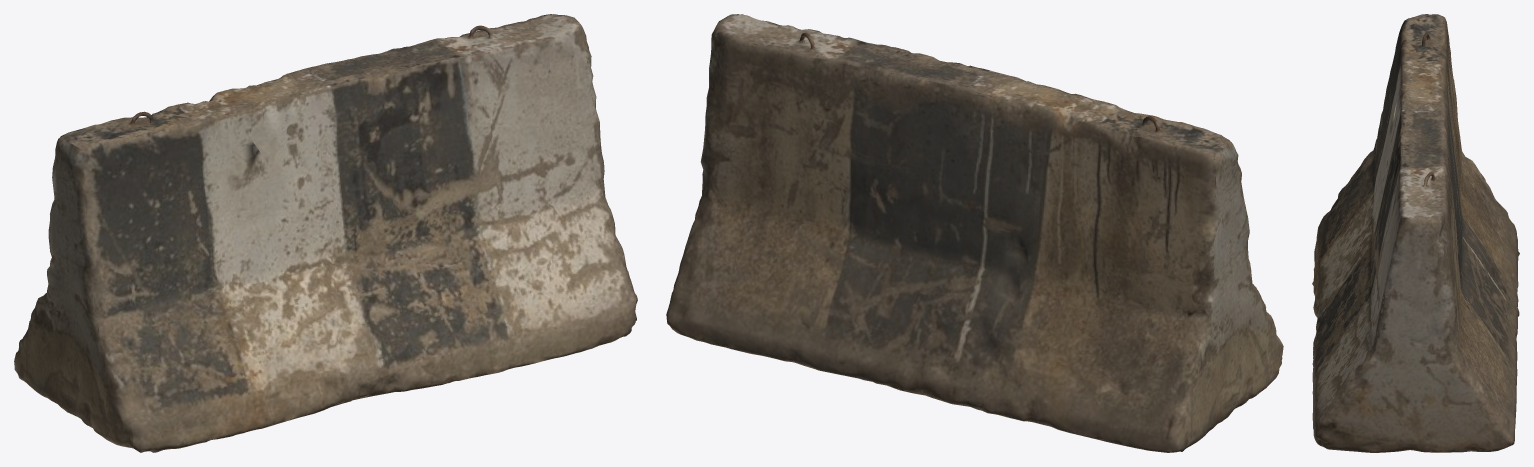
Rendered from concrete_road_barrier_1k.glb.
The picture shows the model from 3 angles, left to right: view 1: azimuth 30°, elevation 25°; view 2: azimuth 150°, elevation 25°; view 3: azimuth 270°, elevation 25°; orthographic projection. The views are drawn at different scales.
Parts seen in each view (by area): view 1: concrete_road_barrier; view 2: concrete_road_barrier; view 3: concrete_road_barrier.
Part boxes in pixels (x1,y1,x2,y2): concrete_road_barrier: (14,14,637,452); concrete_road_barrier: (666,14,1283,452); concrete_road_barrier: (1312,14,1519,452).
Bounding box in the file's own units: 1.55 × 0.8309 × 0.6387.
Materials: 1 (1 with a texture image).
